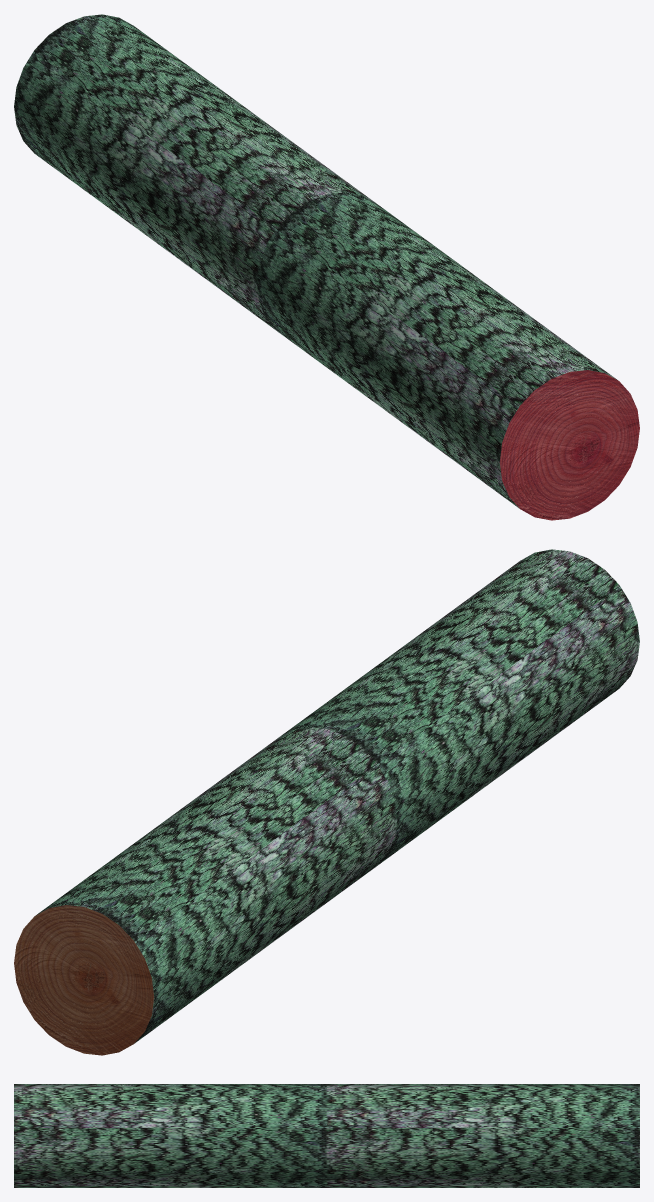
Rendered from treelog.fbx.
3 views of the same model, one above another, from view 1: azimuth 30°, elevation 25°; view 2: azimuth 150°, elevation 25°; view 3: azimuth 270°, elevation 25° (orthographic). The views are drawn at different scales.
Visible parts, largest first — view 1: Model; view 2: Model; view 3: Model.
Part boxes in pixels (left/top/right/bottom): Model: left=14, top=14, right=639, bottom=520; Model: left=14, top=549, right=639, bottom=1055; Model: left=14, top=1084, right=639, bottom=1187.
Size of the model in its own units: 16 by 16 by 96.
